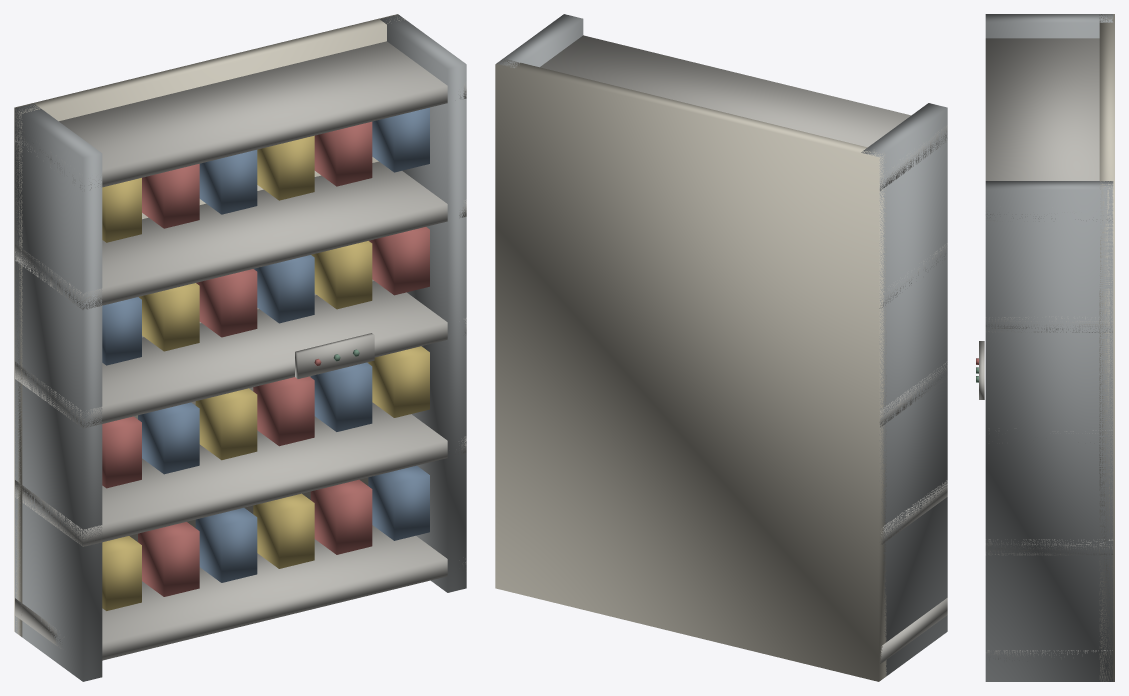
Rendered from retail_gondola__compact.glb.
3 renders of one model, left to right at view 1: azimuth 30°, elevation 25°; view 2: azimuth 150°, elevation 25°; view 3: azimuth 270°, elevation 25°, orthographic. The views are drawn at different scales.
Parts seen in each view (by area): view 1: world; view 2: world; view 3: world.
Boxes of the visible parts, x1,y1,x2,y2 form: world: [14, 14, 466, 681]; world: [495, 14, 947, 681]; world: [976, 14, 1114, 681].
Size of the model in its own units: 1.18 by 1.53 by 0.3922.
